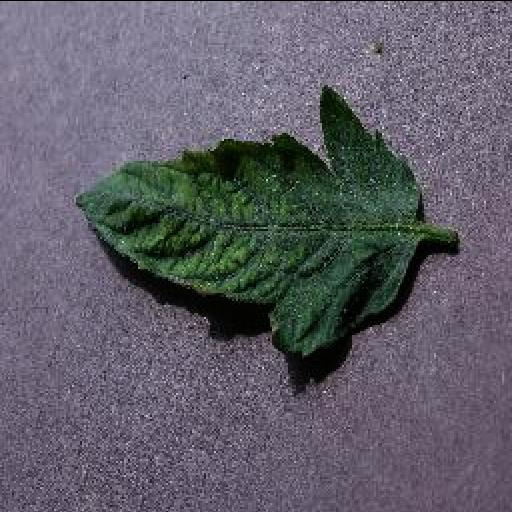Mosaic Virus: (76, 80, 426, 358)
